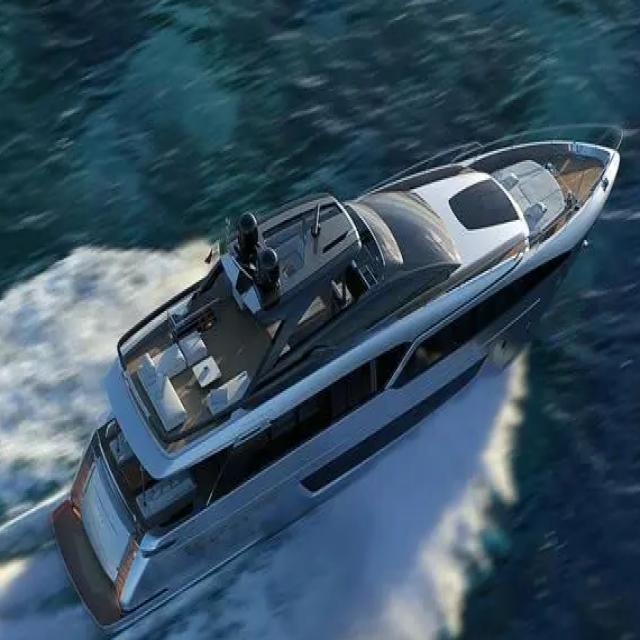houseboat: (58, 109, 624, 640)
